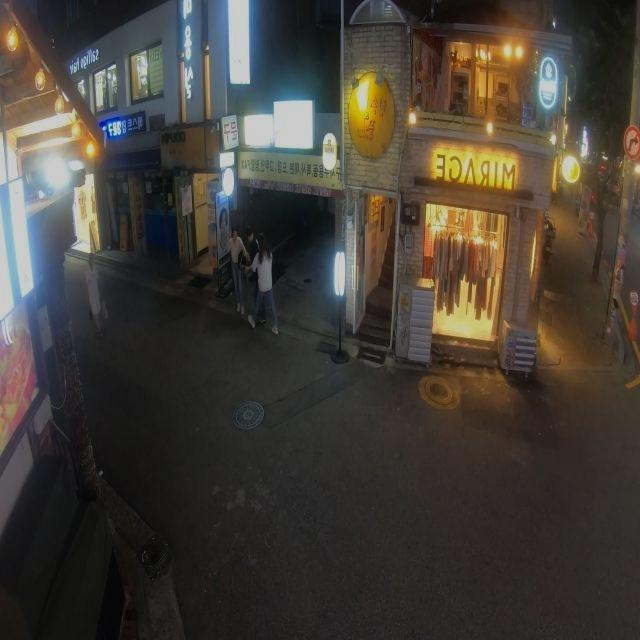fight: (243, 226, 278, 334), (225, 226, 250, 312)
non-fight: (79, 253, 114, 340)
